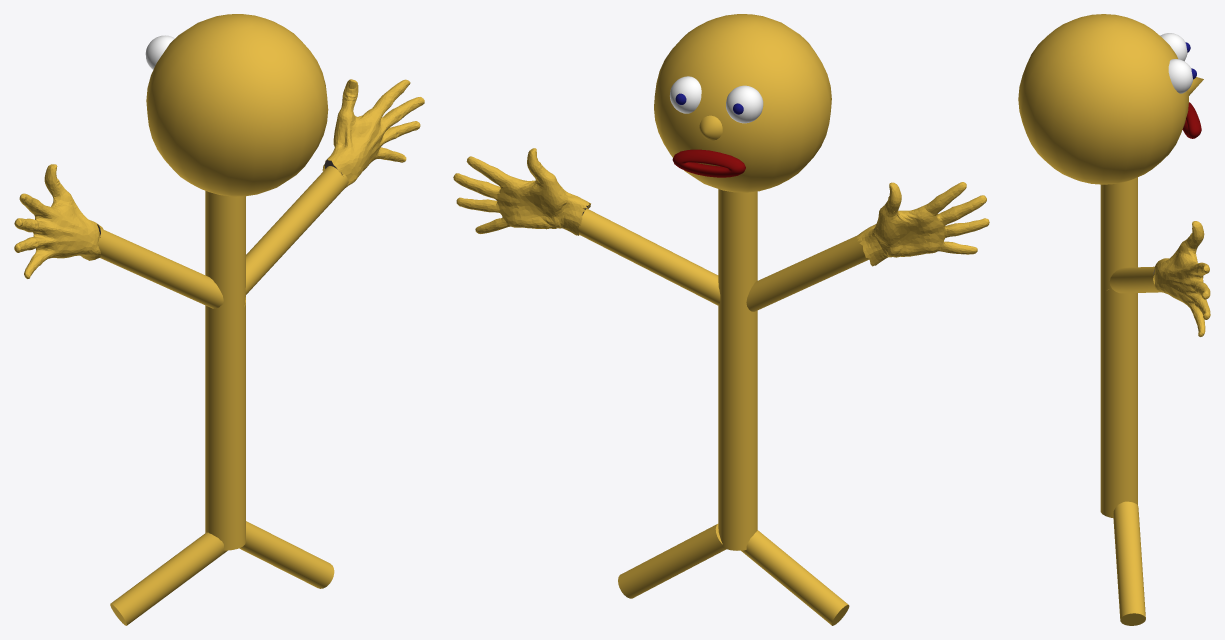
The model's file is MrBodyWithHands.obj.
The picture shows the model from 3 angles, left to right: view 1: azimuth 30°, elevation 25°; view 2: azimuth 150°, elevation 25°; view 3: azimuth 270°, elevation 25°; orthographic projection. The views are drawn at different scales.
Visible parts, largest first — view 1: MrBodyWithHands:polySurface34; view 2: MrBodyWithHands:polySurface34; view 3: MrBodyWithHands:polySurface34.
Boxes of the visible parts, x1,y1,x2,y2 form: MrBodyWithHands:polySurface34: (14,14,424,625); MrBodyWithHands:polySurface34: (453,14,989,625); MrBodyWithHands:polySurface34: (1018,14,1210,625).
Bounding box in the file's own units: 13.43 × 16.11 × 5.01.
